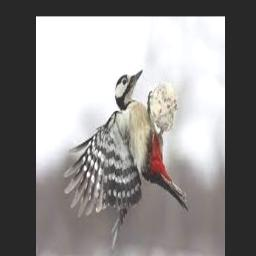Woodpecker: (63, 70, 189, 247)
